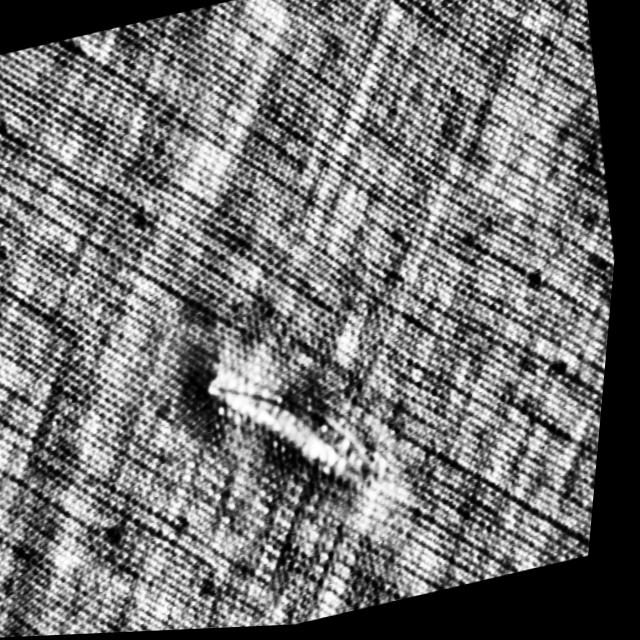Hole: (186, 324, 406, 534)
